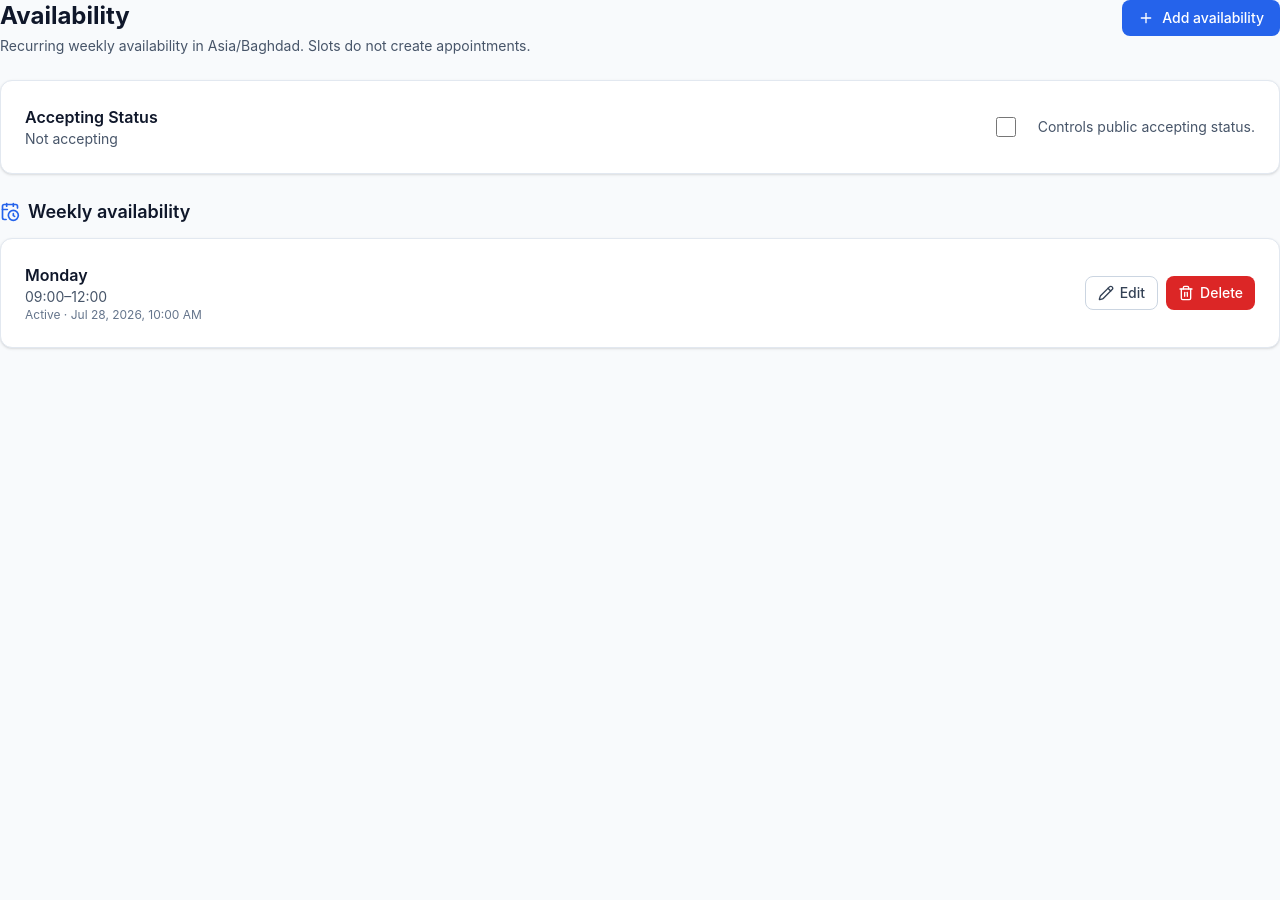
Test: Doctor Phase A › renders weekly availability and labeled edit controls
Check: the heading "Availability" is shown, box top-left (0, 1), bottom-right (130, 30)
Check: the text "Monday" is shown, box top-left (25, 265), bottom-right (88, 285)
What coordinates should you click on to do the following:
click the button "Add availability"
I would click on:
 (1201, 18)
Its box is top-left (1122, 0), bottom-right (1279, 36).
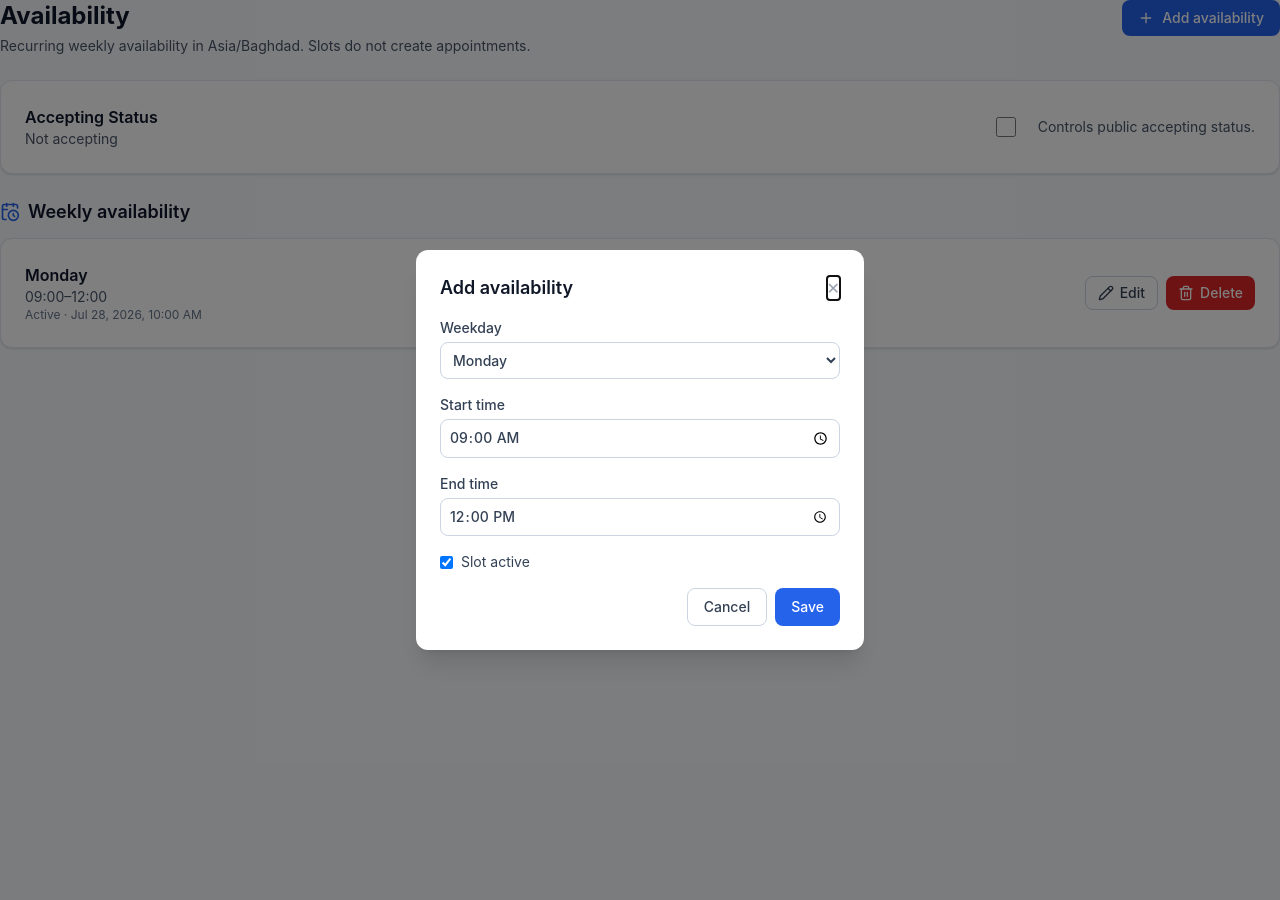
Check: the dialog "Add availability" is shown
Check: the dropdown labelled "Weekday" is shown, box top-left (440, 342), bottom-right (840, 379)
Check: the time field labelled "Start time" is shown, box top-left (440, 419), bottom-right (840, 458)
